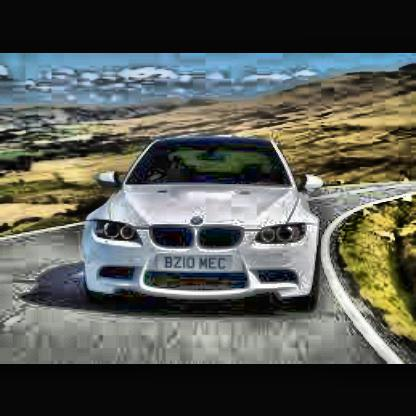BMW M3 Coupe 2012: (80, 132, 327, 316)
